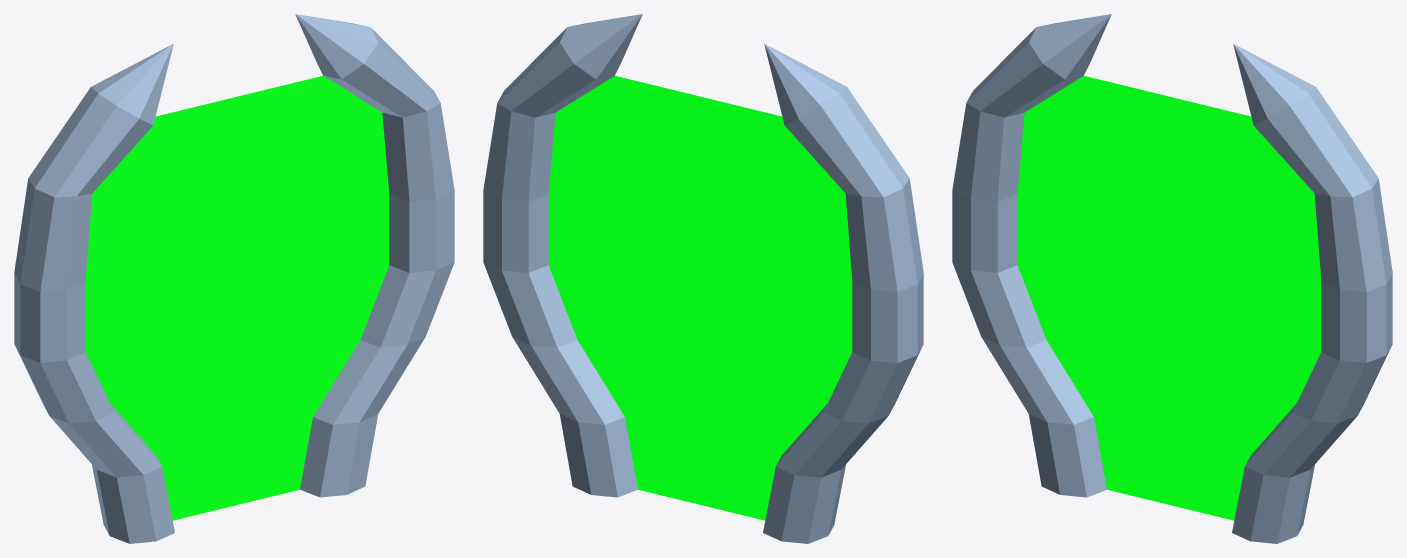
The model's file is Gilded_Portal.glb.
3 views of the same model, side by side, from view 1: azimuth 30°, elevation 25°; view 2: azimuth 150°, elevation 25°; view 3: azimuth 330°, elevation 25° (orthographic).
Parts seen in each view (by area): view 1: Dark Portal; view 2: Dark Portal; view 3: Dark Portal.
Boxes of the visible parts, x1,y1,x2,y2 form: Dark Portal: (14, 14, 454, 543); Dark Portal: (483, 14, 923, 543); Dark Portal: (952, 14, 1392, 543).
Bounding box in the file's own units: 1.8 × 1.92 × 0.2497.
